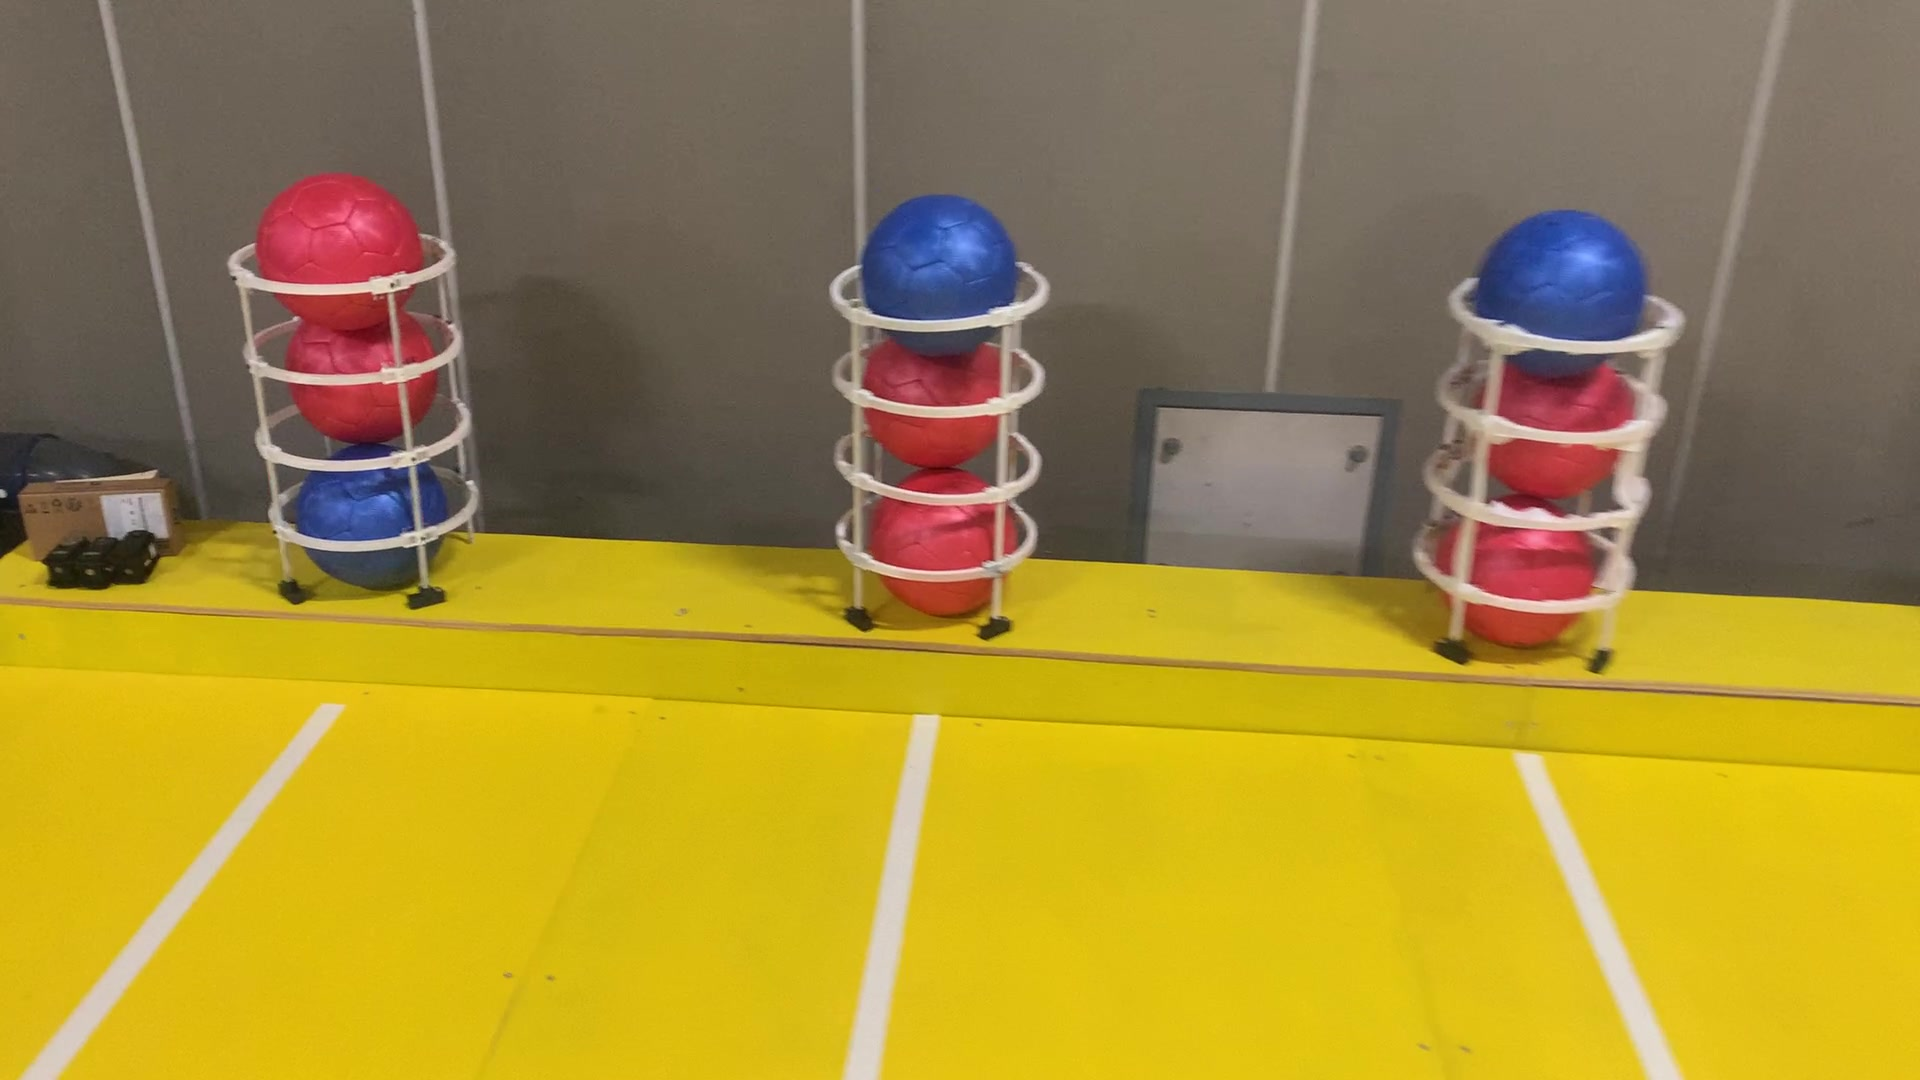blue: (1474, 207, 1650, 376), (857, 194, 1019, 352), (291, 446, 455, 589)
red: (252, 173, 426, 326), (1474, 351, 1643, 502), (872, 462, 1029, 617), (280, 302, 442, 452), (1444, 489, 1600, 644), (856, 326, 1017, 471)
